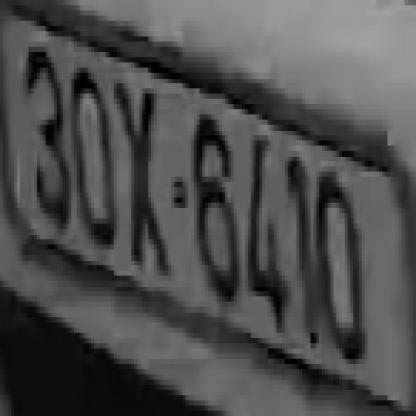0: (71, 73, 117, 244)
3: (23, 47, 68, 224)
4: (245, 136, 288, 323)
6: (191, 114, 239, 302)
X: (117, 83, 168, 265)
